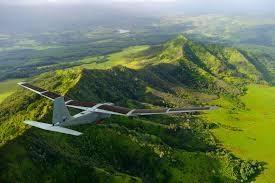Airplane: (16, 77, 214, 139)
